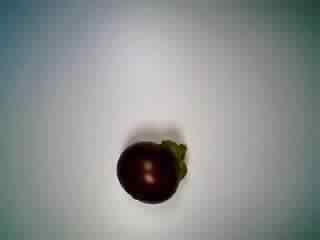mangosteen: (115, 135, 189, 205)
